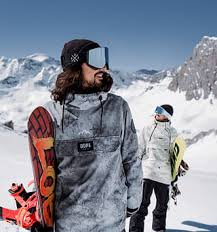snowboard: (26, 106, 56, 232), (167, 134, 187, 207)
